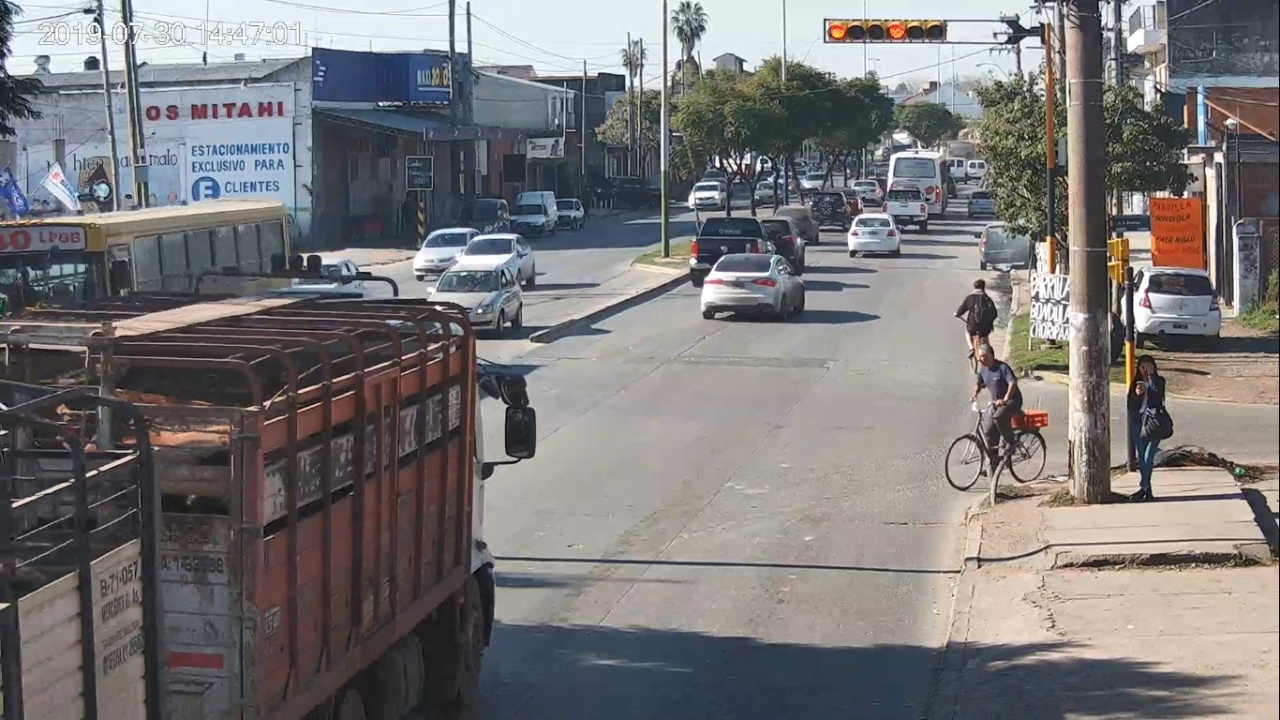car: (700, 253, 805, 320), (847, 213, 901, 259)
traffic light: (827, 18, 947, 43)
truck: (1, 292, 540, 720)
